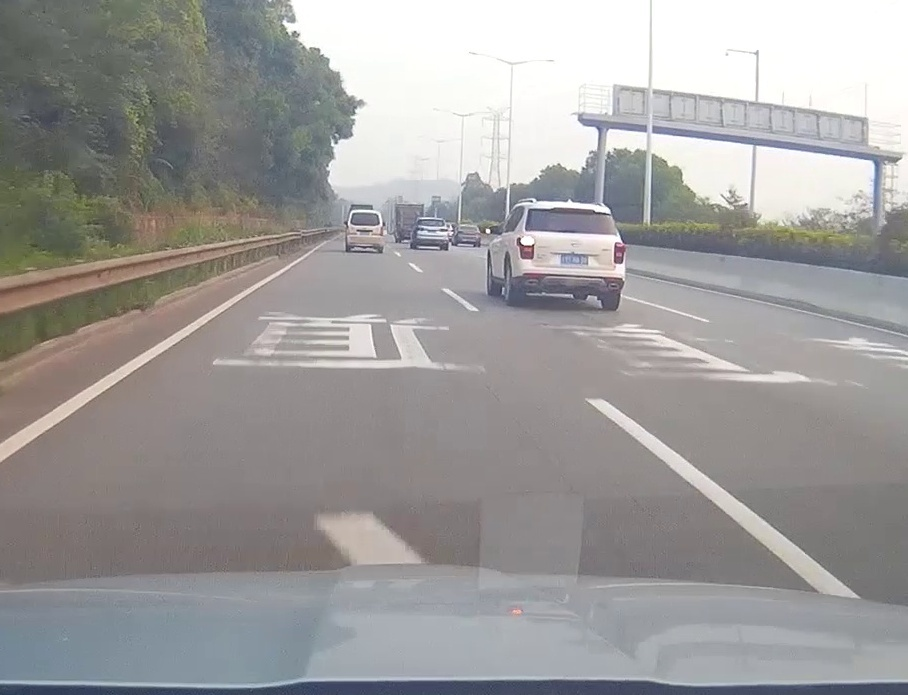L_light: (516, 237, 534, 259), (416, 228, 424, 230), (347, 226, 349, 234)
R_light: (614, 242, 625, 264), (381, 227, 383, 235), (441, 229, 448, 231)
T_light: (566, 209, 580, 212), (362, 213, 367, 215), (429, 220, 435, 221)
day-left: (513, 202, 625, 311)
day-no: (346, 210, 383, 253), (415, 218, 449, 251)
